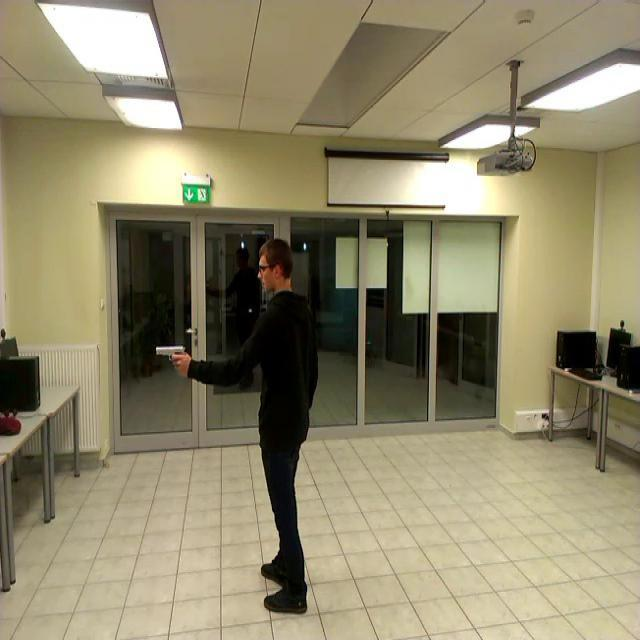weapon: (150, 346, 188, 375)
